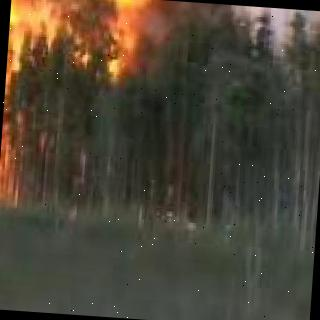fire: (0, 0, 36, 209), (81, 0, 164, 81)
